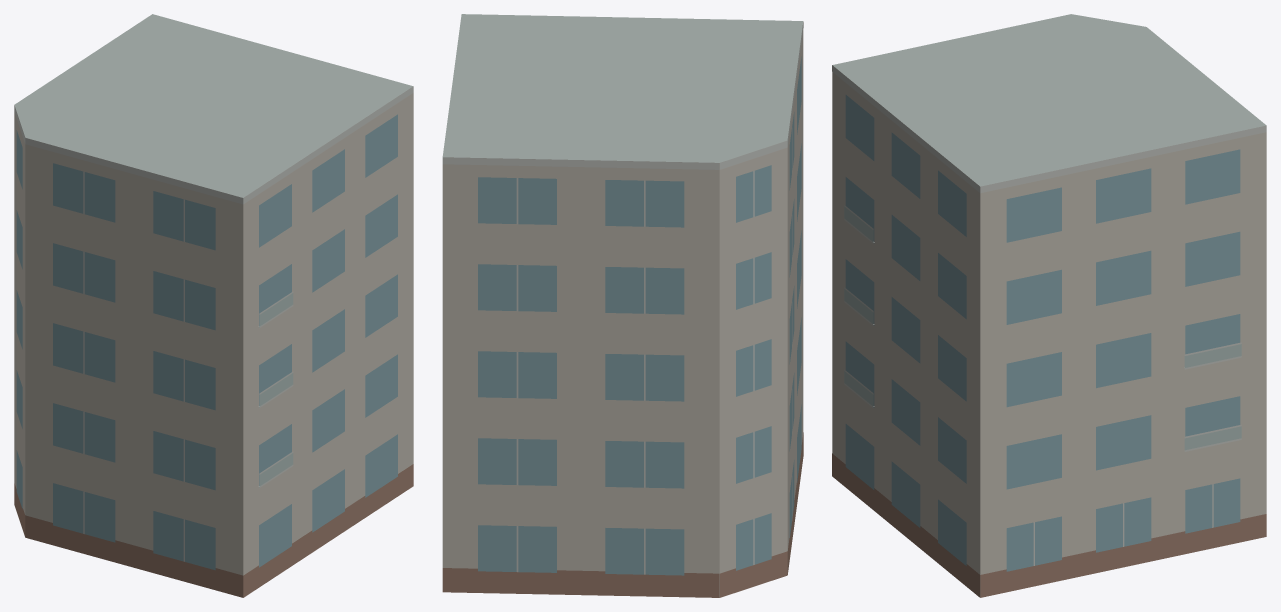
Rendered from survey-upis-32957930.glb.
The picture shows the model from 3 angles, left to right: view 1: azimuth 30°, elevation 25°; view 2: azimuth 150°, elevation 25°; view 3: azimuth 270°, elevation 25°; orthographic projection. The views are drawn at different scales.
Visible parts, largest first — view 1: survey-upis-32957930.tmp; view 2: survey-upis-32957930.tmp; view 3: survey-upis-32957930.tmp.
Part boxes in pixels (x1,y1,x2,y2): survey-upis-32957930.tmp: (14, 14, 413, 597); survey-upis-32957930.tmp: (442, 14, 803, 597); survey-upis-32957930.tmp: (832, 14, 1266, 597).
Bounding box in the file's own units: 13.6 × 15.1 × 14.47.
